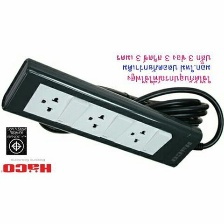three_eye_plug: (0, 52, 208, 172)
